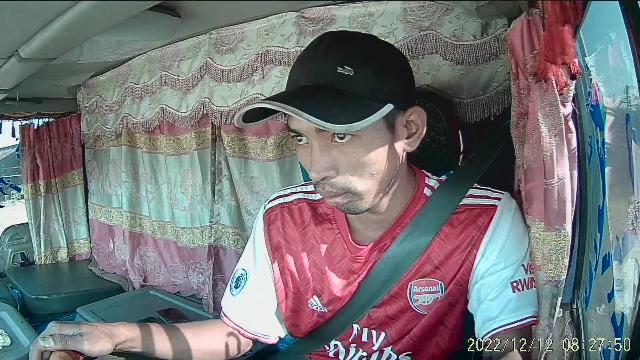SafeDriving: (324, 124, 362, 148)
Seatbelt: (299, 176, 481, 360)
